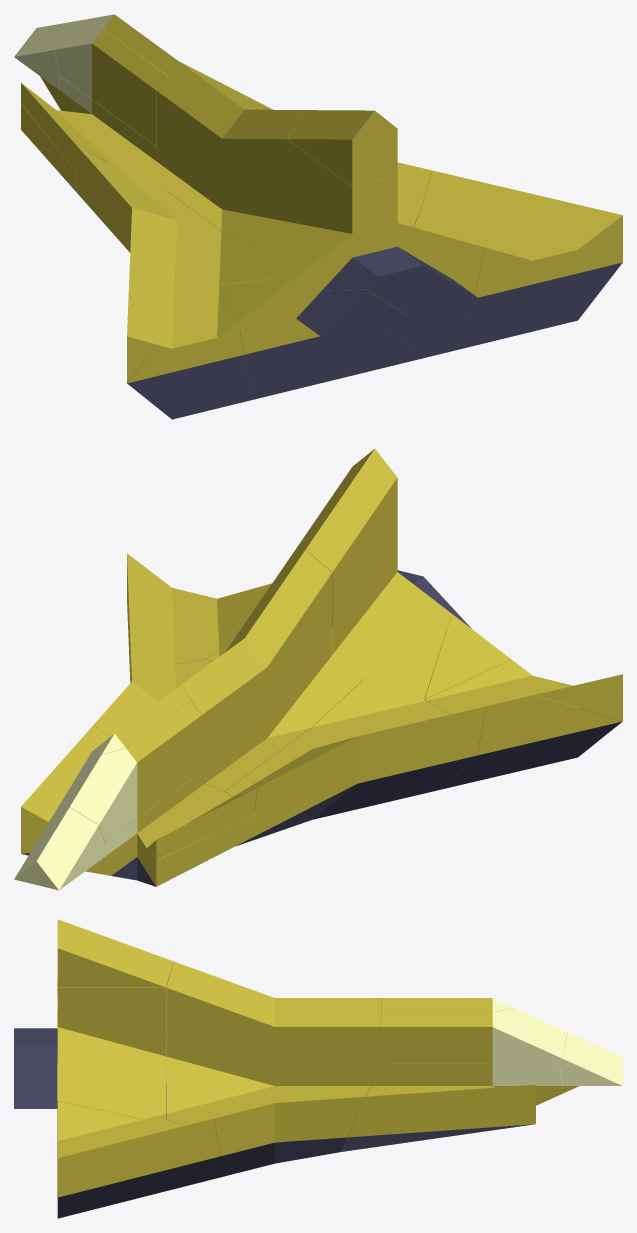
Rendered from PlayerDebris.dae.
3 views of the same model, one above another, from view 1: azimuth 30°, elevation 25°; view 2: azimuth 150°, elevation 25°; view 3: azimuth 270°, elevation 25° (orthographic). The views are drawn at different scales.
Visible parts, largest first — view 1: Cube.007_cell.011, Cube.007_cell.001, Cube.007_cell.005, Cube.007_cell.006, Cube.007_cell, Cube.007_cell.007, Cube.007_cell.010, Cube.007_cell.003, Cube.007_cell.002, Cube.007_cell.012, Cube.007_cell.004, Cube.007_cell.008 (+1 smaller); view 2: Cube.007_cell.005, Cube.007_cell.007, Cube.007_cell.011, Cube.007_cell, Cube.007_cell.003, Cube.007_cell.010, Cube.007_cell.001, Cube.007_cell.002, Cube.007_cell.004, Cube.007_cell.006, Cube.007_cell.012, Cube.007_cell.009 (+1 smaller); view 3: Cube.007_cell.005, Cube.007_cell.011, Cube.007_cell.003, Cube.007_cell.001, Cube.007_cell.010, Cube.007_cell.002, Cube.007_cell.004, Cube.007_cell.008.
Boxes of the visible parts, <box> form: Cube.007_cell.011: <box>221,139,484,356</box>; Cube.007_cell.001: <box>414,170,622,348</box>; Cube.007_cell.005: <box>135,63,432,250</box>; Cube.007_cell.006: <box>221,275,427,399</box>; Cube.007_cell: <box>127,270,252,419</box>; Cube.007_cell.007: <box>75,146,255,288</box>; Cube.007_cell.010: <box>54,16,168,146</box>; Cube.007_cell.003: <box>21,61,273,191</box>; Cube.007_cell.002: <box>288,110,397,186</box>; Cube.007_cell.012: <box>21,83,107,169</box>; Cube.007_cell.004: <box>14,22,70,103</box>; Cube.007_cell.008: <box>102,14,180,76</box>; Cube.007_cell.005: <box>94,550,363,796</box>; Cube.007_cell.007: <box>225,679,485,846</box>; Cube.007_cell.011: <box>206,525,451,698</box>; Cube.007_cell: <box>425,659,622,789</box>; Cube.007_cell.003: <box>21,725,256,886</box>; Cube.007_cell.010: <box>50,700,201,841</box>; Cube.007_cell.001: <box>127,553,264,682</box>; Cube.007_cell.002: <box>288,449,397,571</box>; Cube.007_cell.004: <box>14,807,104,890</box>; Cube.007_cell.006: <box>423,590,511,710</box>; Cube.007_cell.012: <box>150,788,257,859</box>; Cube.007_cell.009: <box>535,674,622,720</box>; Cube.007_cell.005: <box>166,961,381,1182</box>; Cube.007_cell.011: <box>14,987,165,1120</box>; Cube.007_cell.003: <box>341,1063,564,1151</box>; Cube.007_cell.001: <box>57,1101,220,1218</box>; Cube.007_cell.010: <box>380,1008,567,1063</box>; Cube.007_cell.002: <box>57,919,173,987</box>; Cube.007_cell.004: <box>548,1032,622,1092</box>; Cube.007_cell.008: <box>381,998,513,1012</box>.
Size of the model in its own units: 4.4 by 5.6 by 2.2.
